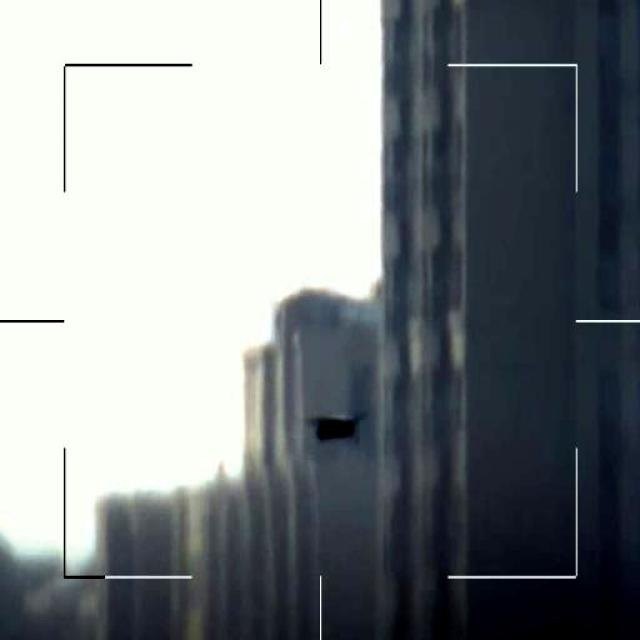bird: (316, 412, 364, 445)
